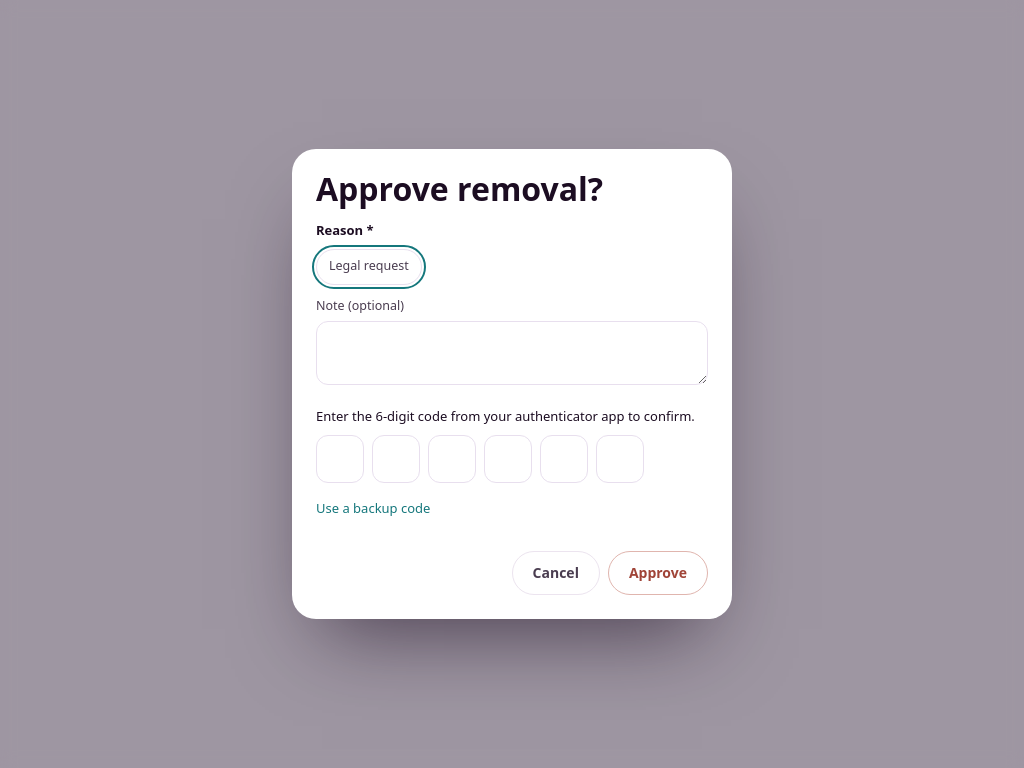
Test: StepUpDialog › an initialReason that isn't on offer starts with none chosen
Check: the radio button labelled "Legal request" is not checked, box [316,249,422,285]
Click the field named "Digit 1 of 6" at (340, 459), box [316,435,364,483]
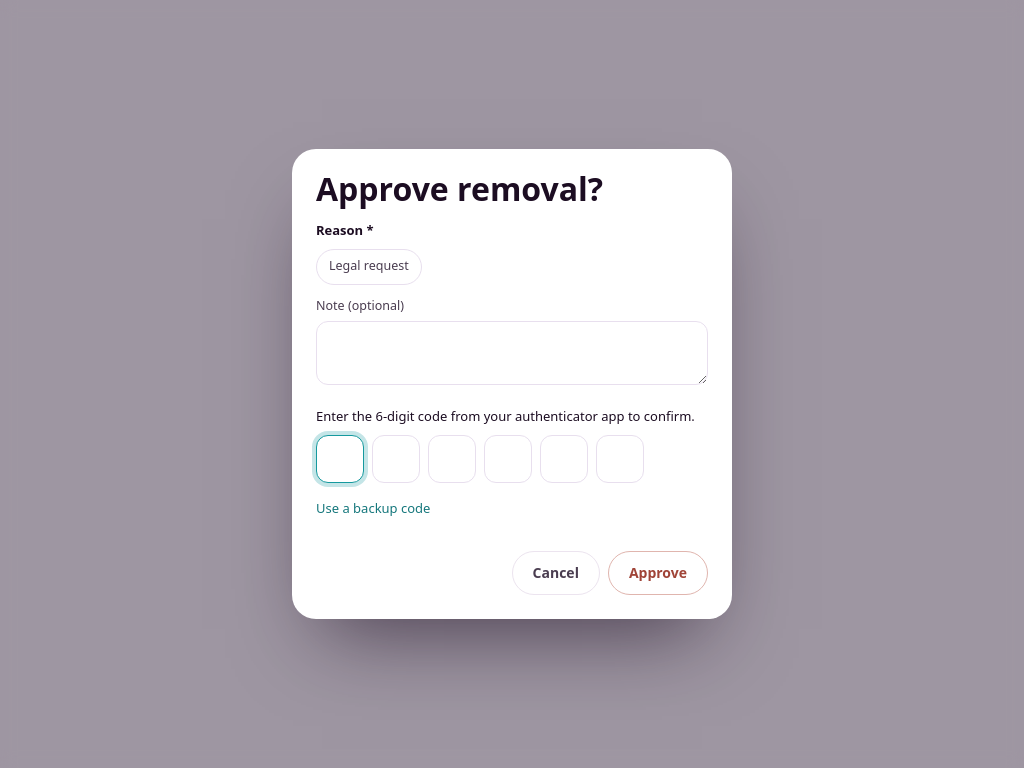
Type keys "123456"
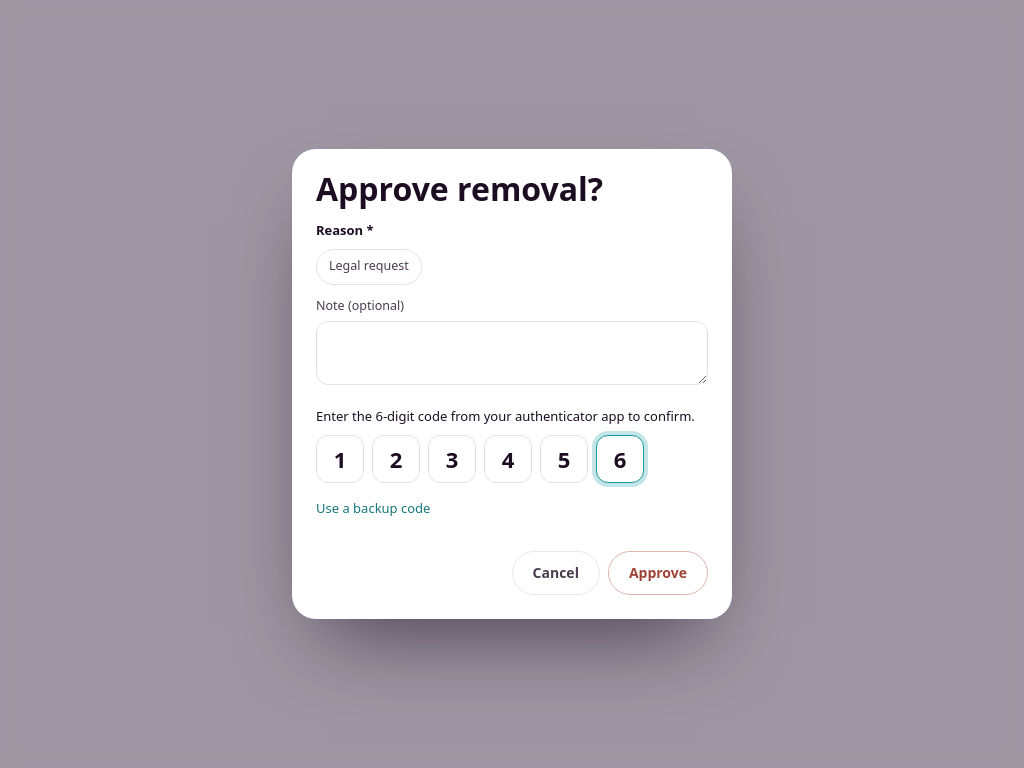
Click the button "Approve" at (658, 573), box [608,551,708,595]
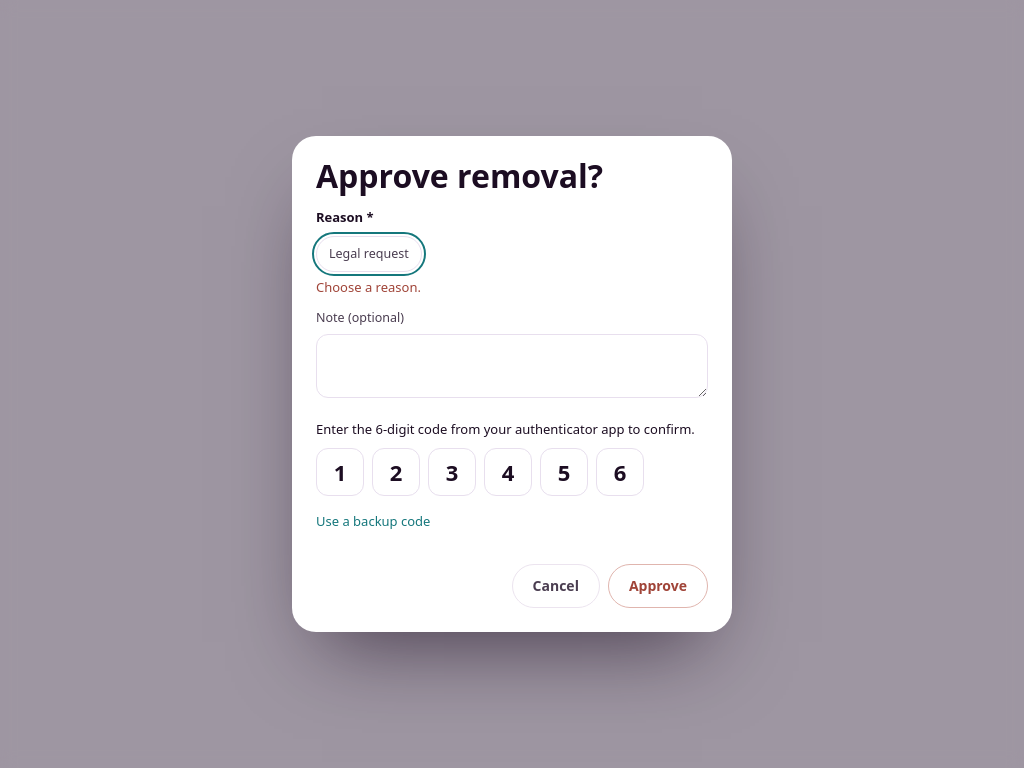
Check: the text "Choose a reason." is shown, box [316,278,421,296]
